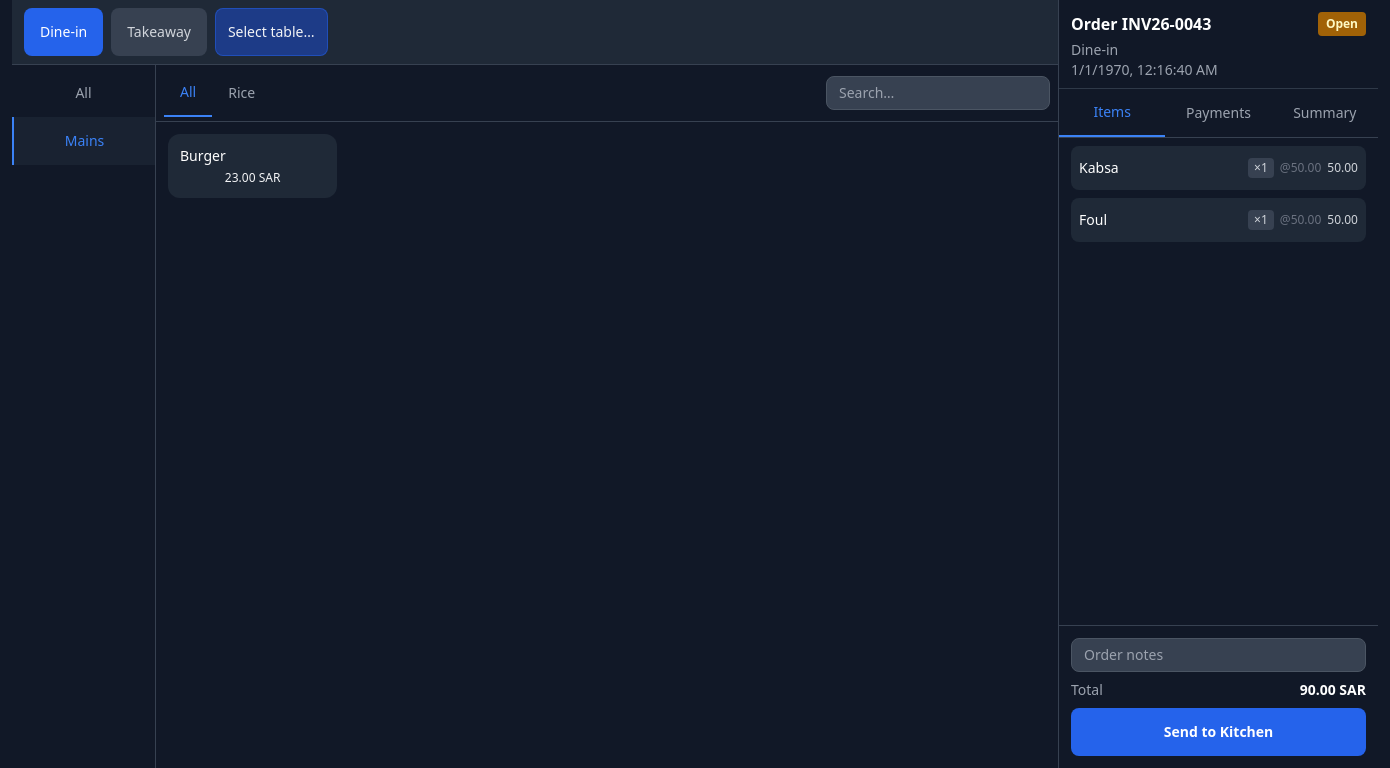
OrderPage — Promotion Discount display (slice 9) › outstanding nets payments against payable, not gross
Expected: the heading "Order INV26-0043" is shown, [1071,12,1211,36]
Step 1. Click the button "Summary" → (1325, 113), box [1272,89,1378,137]
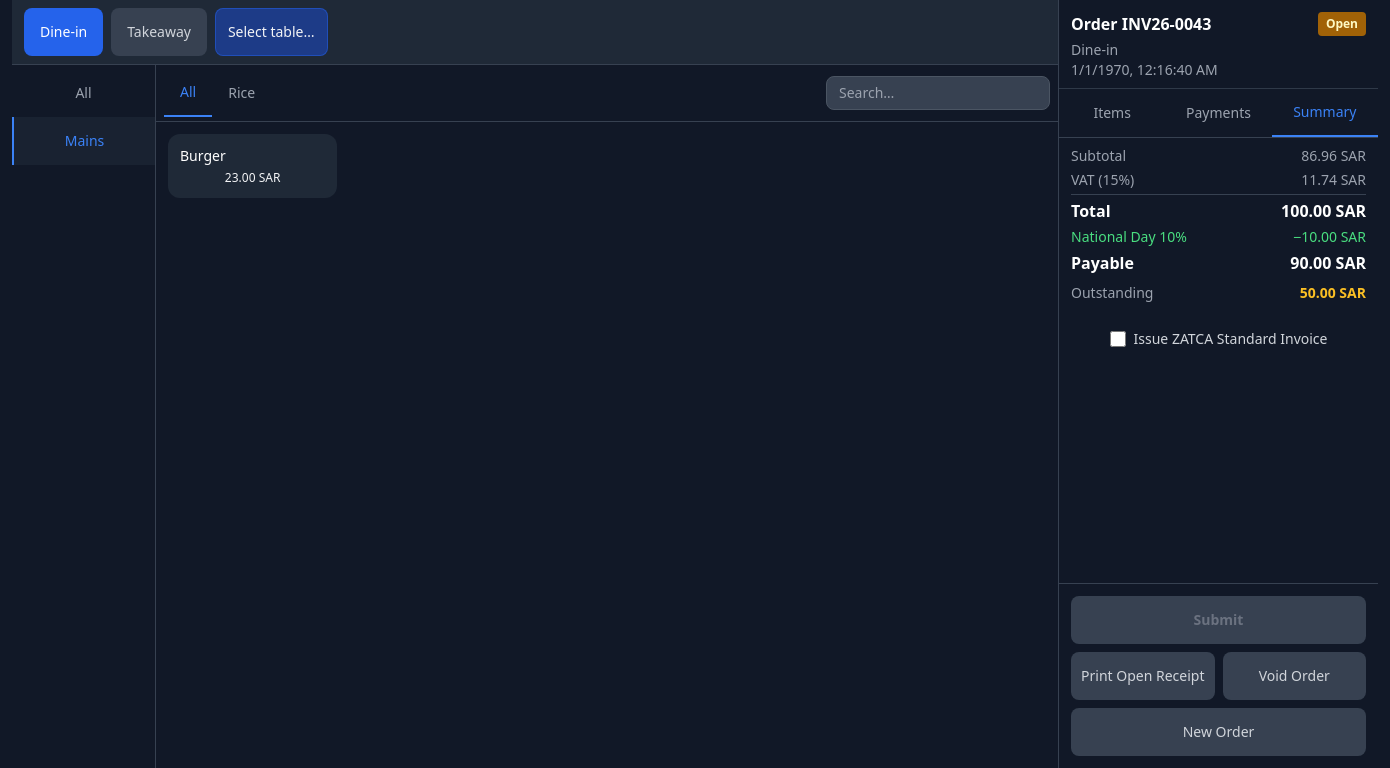
Now the text "National Day 10%" is shown, box [1071,227,1187,247]
Now the text "50.00 SAR" is shown, box [1300,283,1366,303]
